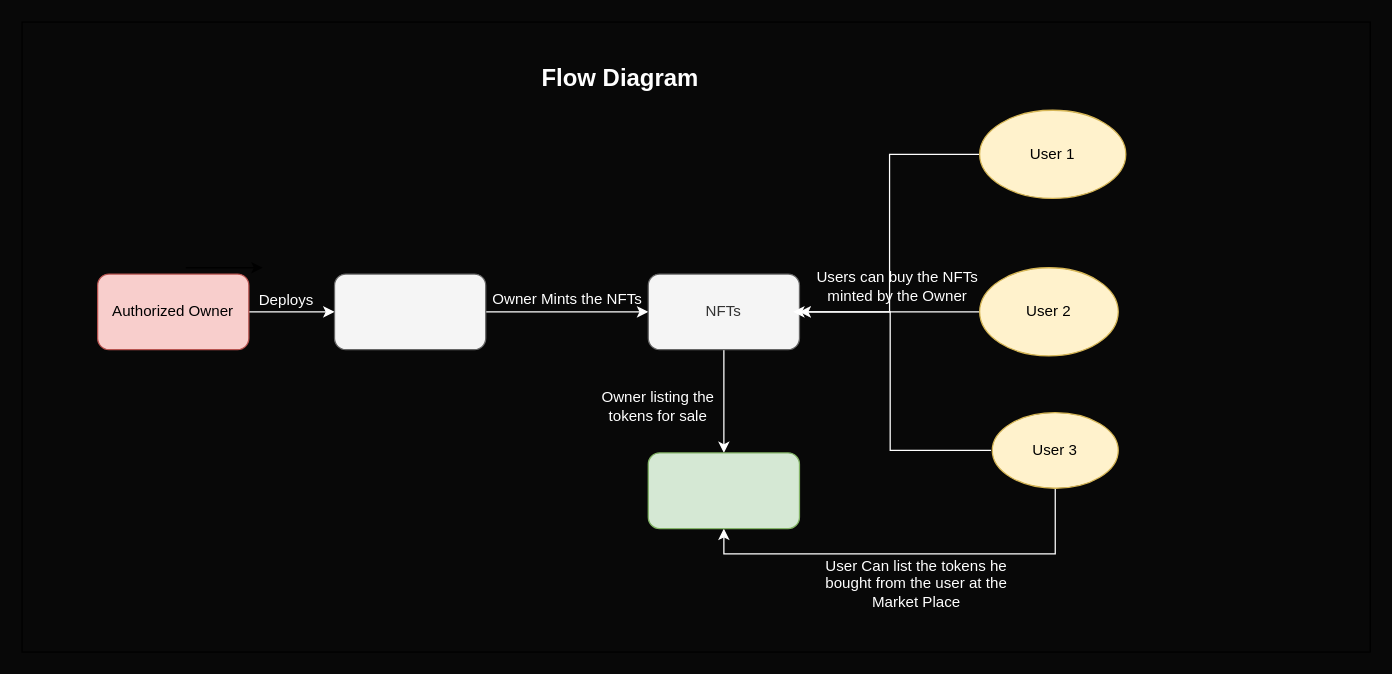
This 1392x674 diagram has some shape labels left out. The shapes that lost their labels are listed below. From the top down, each one's centre as x and y in pixels, then its label:
At pixel 409 311: "NFT Contract".
At pixel 723 490: "Market Place".
